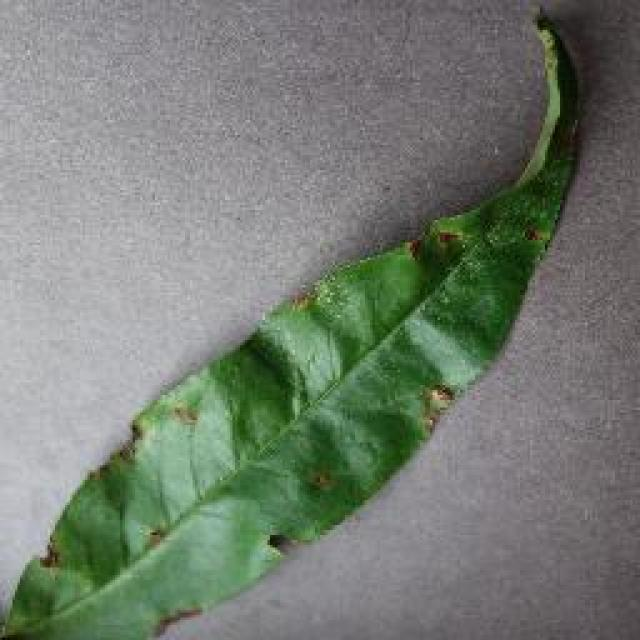Peach_Bacterial_Spot: (283, 242, 540, 476)
